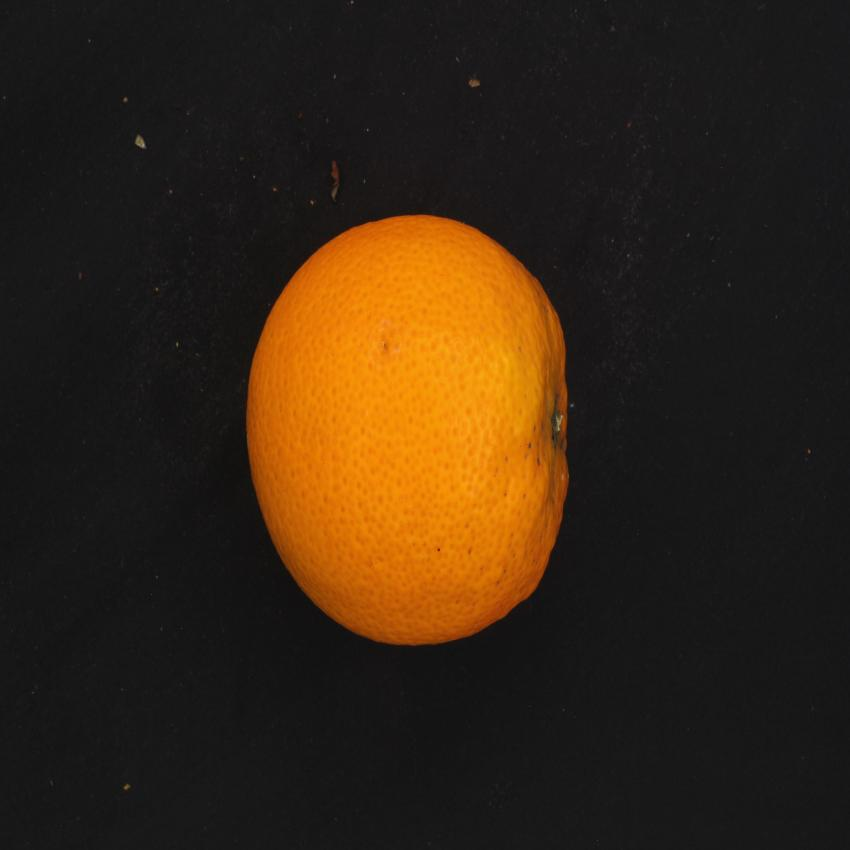Buen estado: (238, 201, 579, 664)
